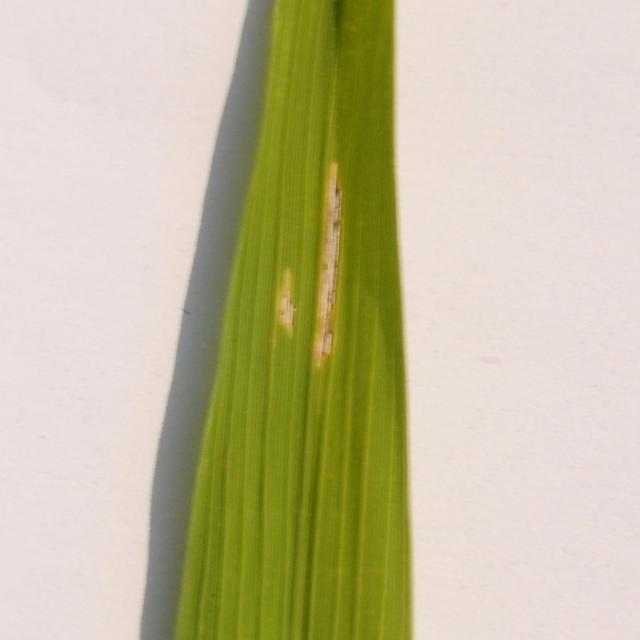leaf blight: (258, 132, 372, 374)
